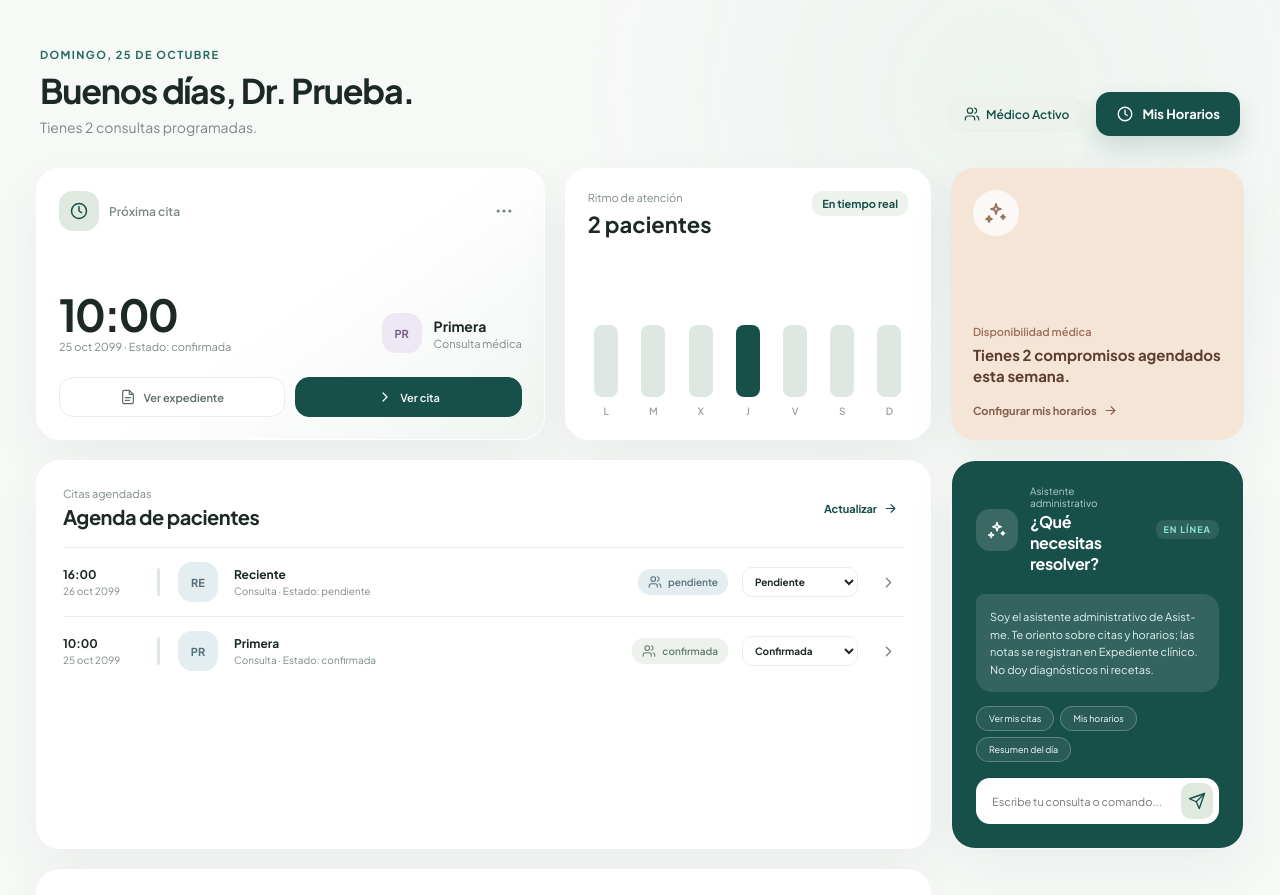
Test: reports rejected doctor proposal inside the still-open dialog
This screenshot has width=1280, height=895.
Expected: the number of elements with class "appointment" is 2, [63,547,904,616]; [63,616,904,685]
Step 1. Click the button "Ver cita" → [408, 397], box [295,377,522,417]
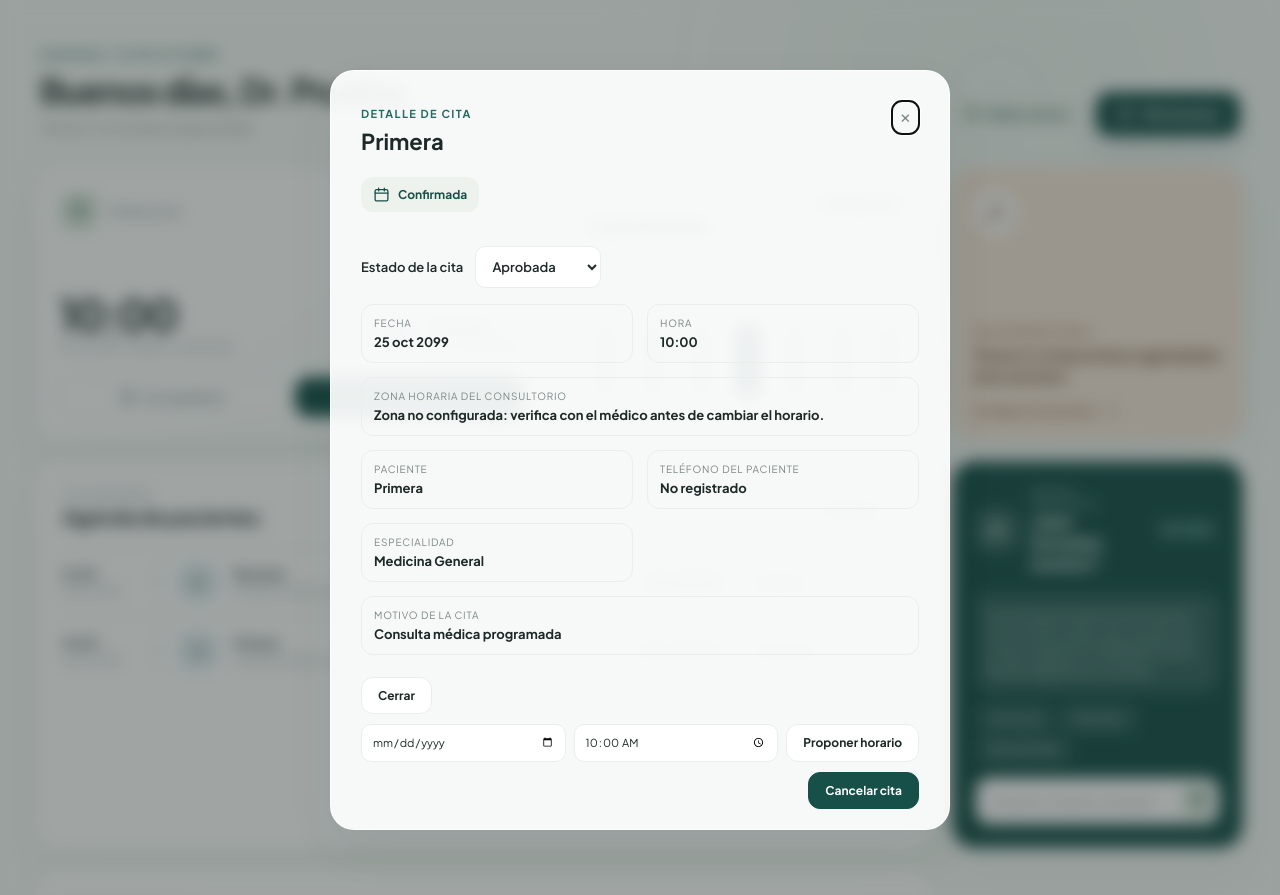
Step 2. Type "2099-10-28" into the date field named "Fecha propuesta" → [463, 743], box [361,724,566,762]
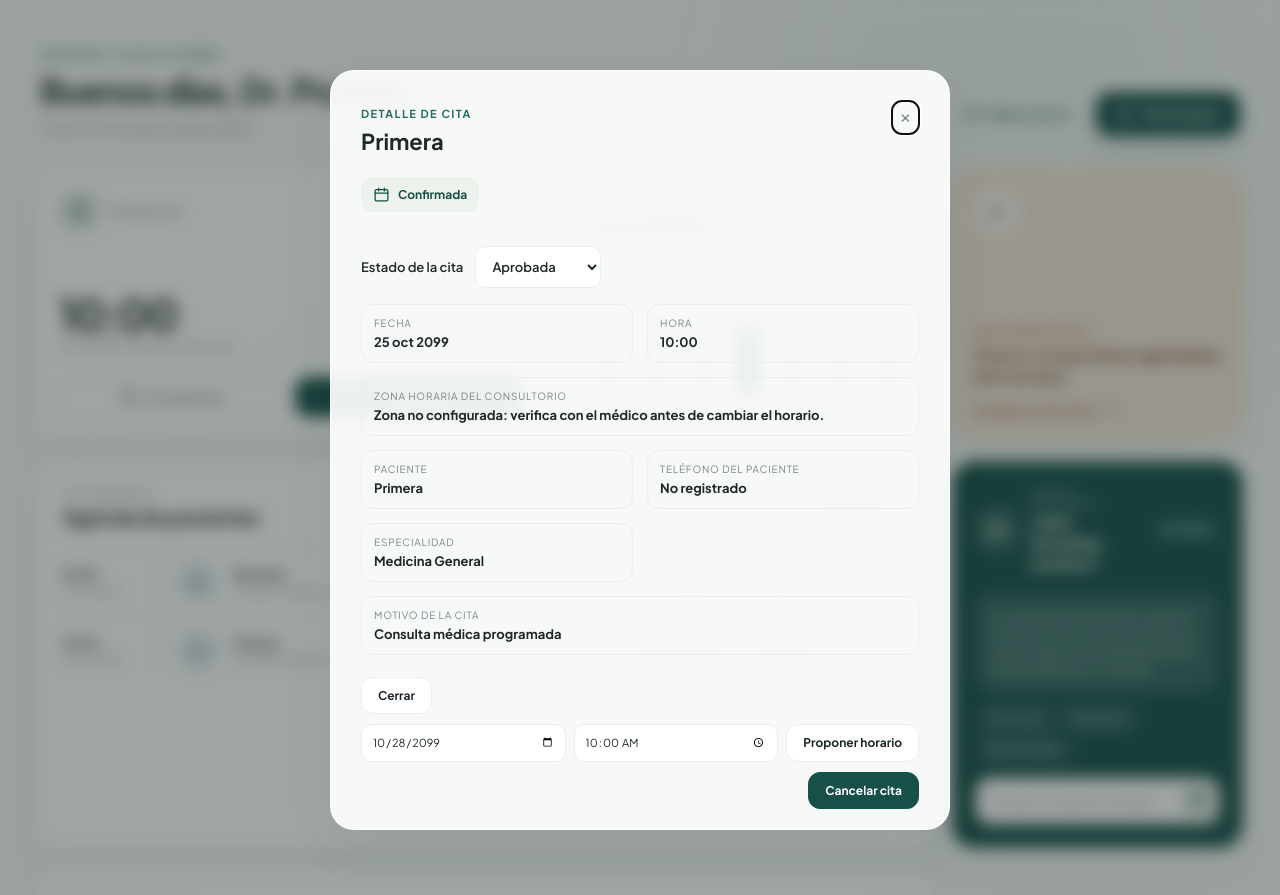
Step 3. Replace the text in the time field named "Hora propuesta" with "11:30" → [676, 743], box [574,724,778,762]
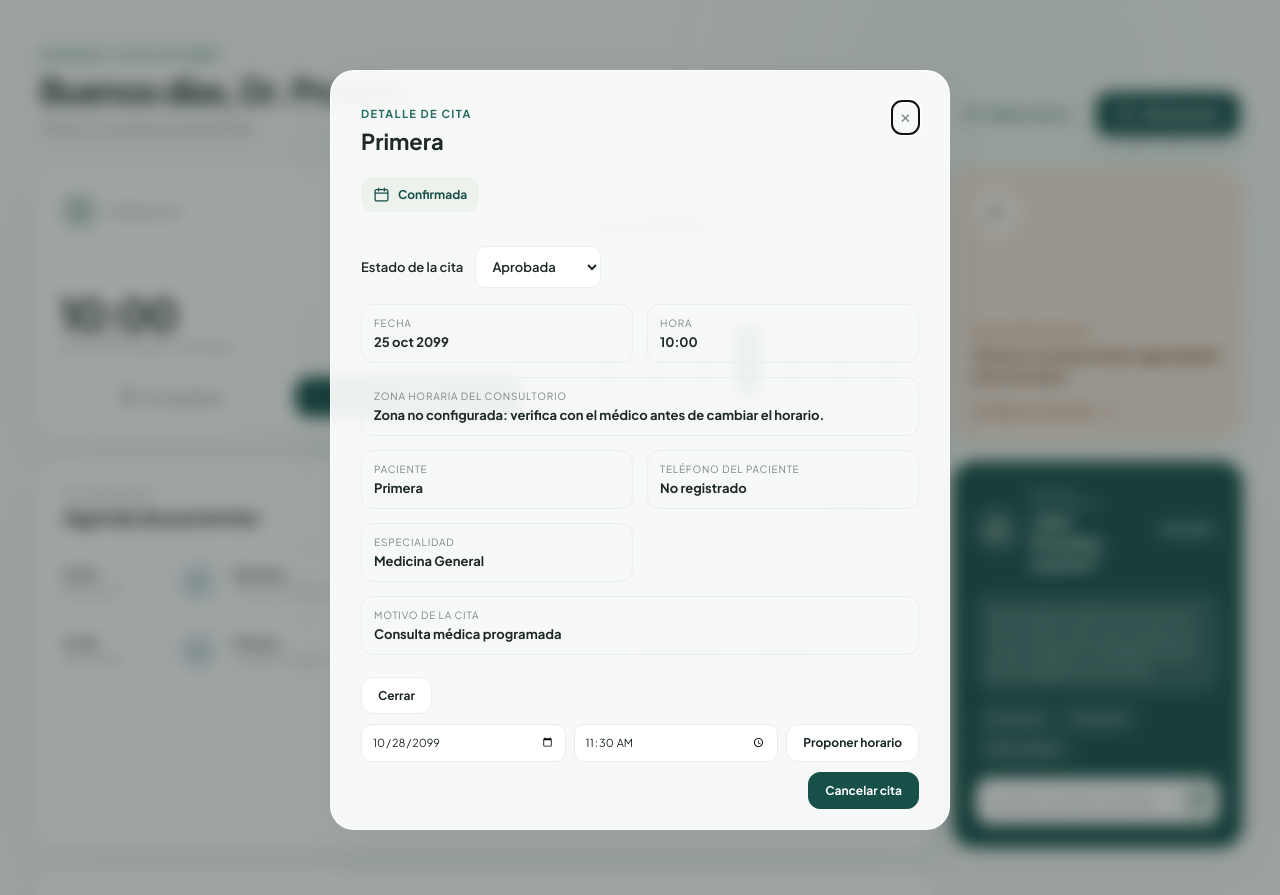
Step 4. Submit the form, box [361,724,919,762]
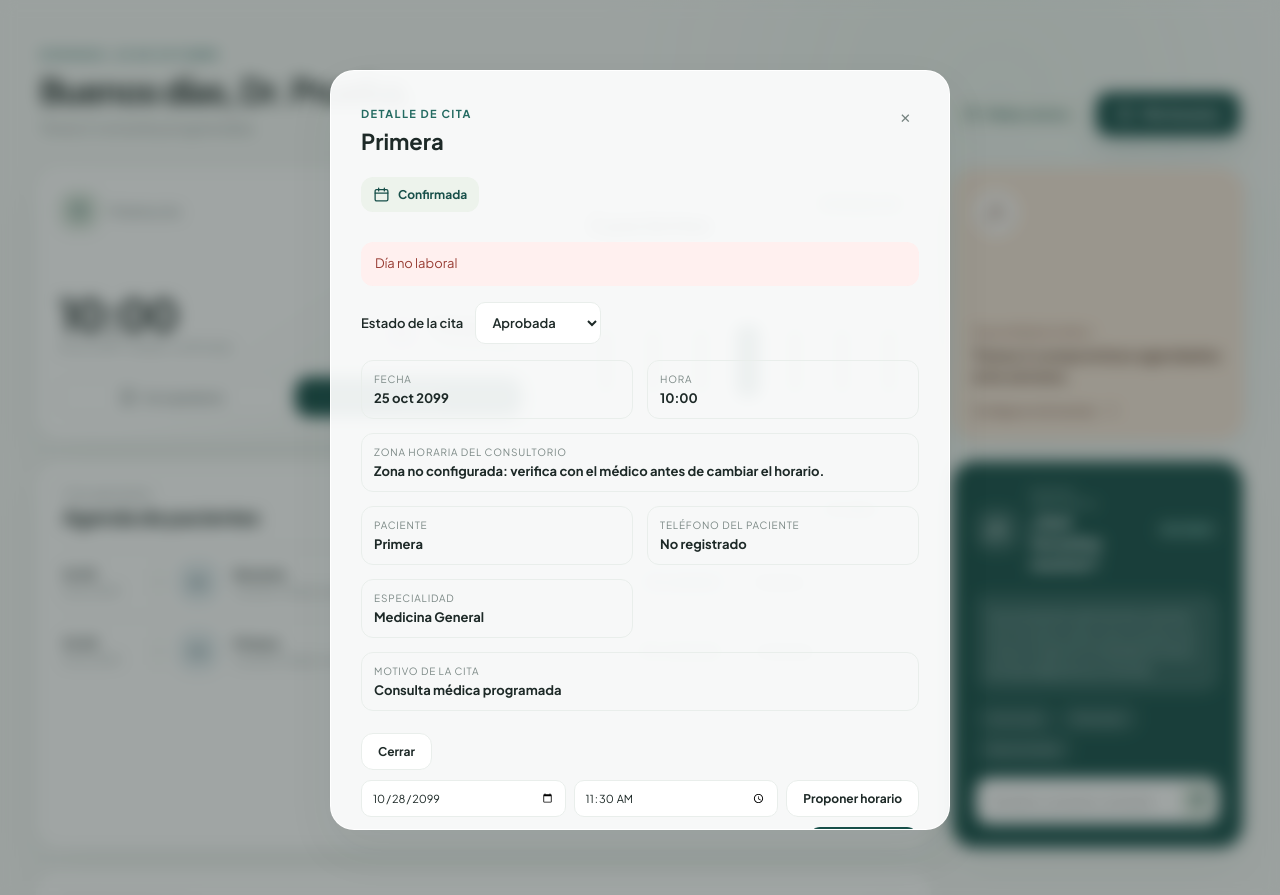
Expected: the message reads "Día no laboral", [375,255,458,271]
